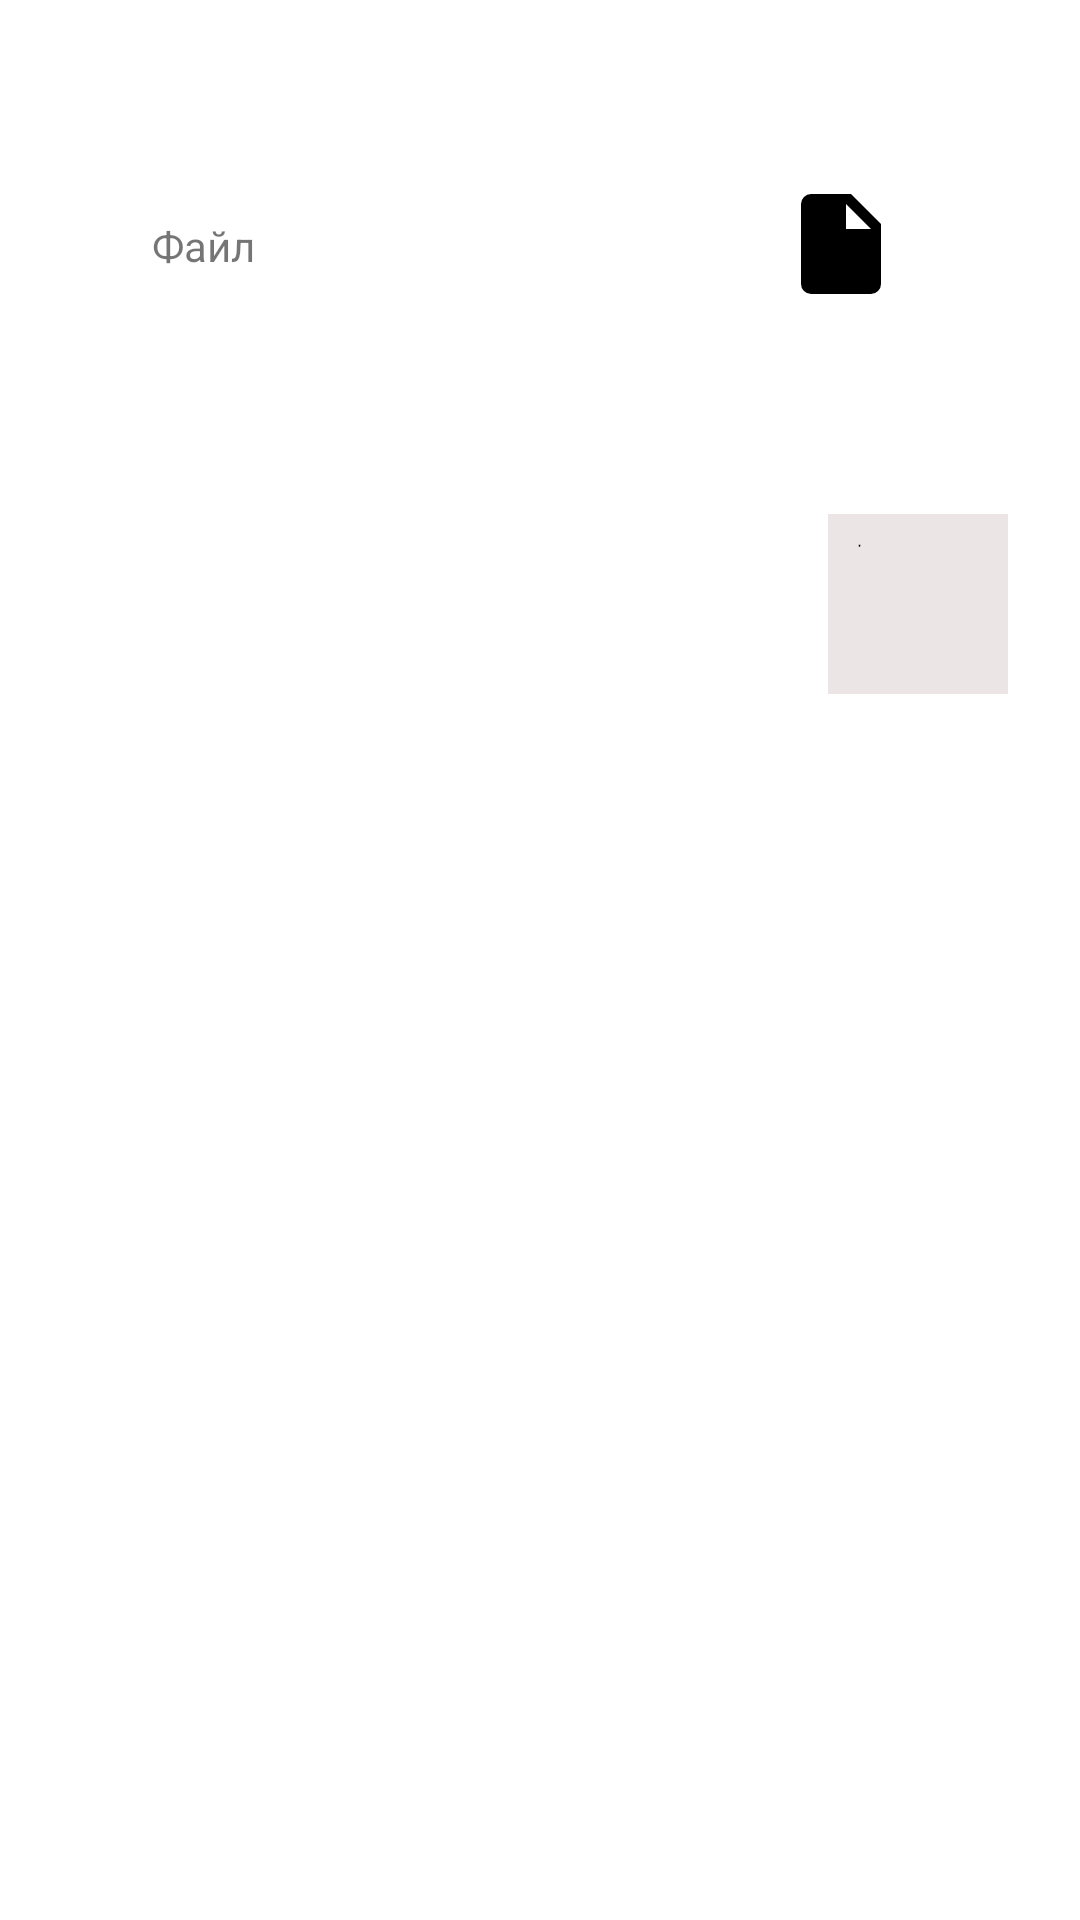

Screen size 1080×1920. Icon name, then its center in pixels as point (x, y):
draft: point (841, 244)
